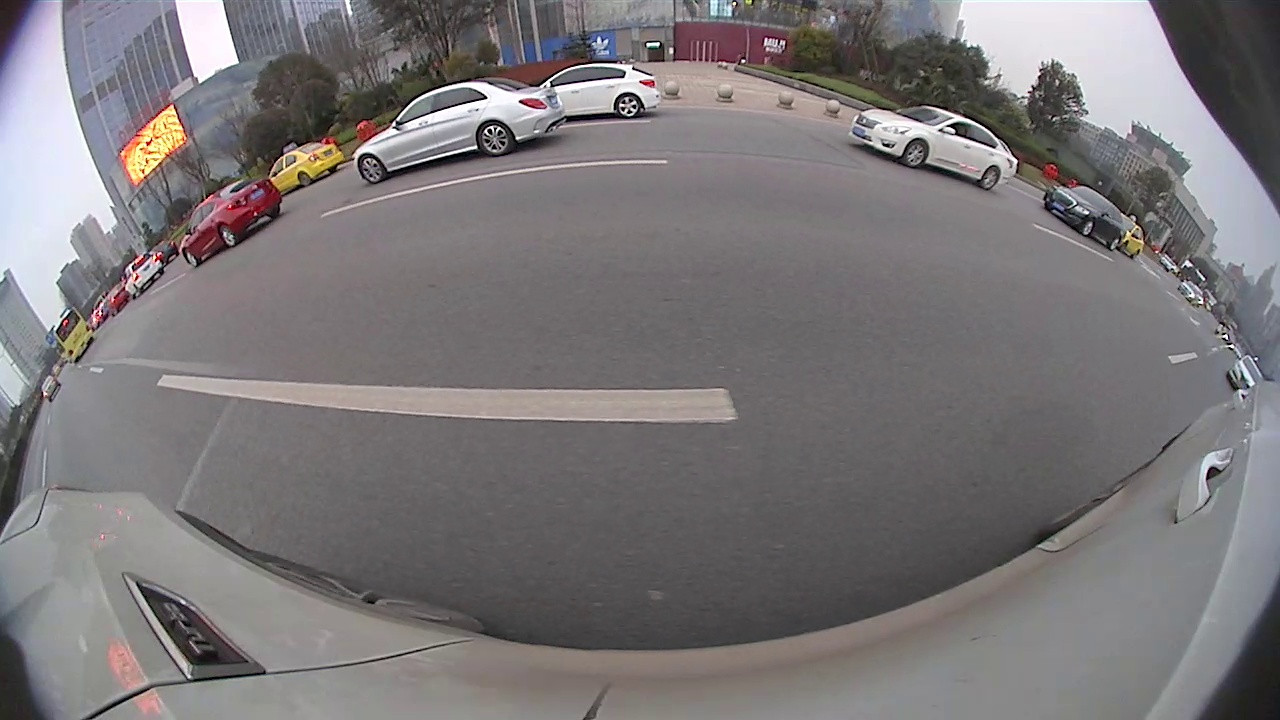bus: (54, 305, 98, 360)
car: (351, 75, 566, 186), (848, 104, 1016, 194), (178, 176, 286, 270), (531, 61, 662, 120), (1040, 182, 1124, 255), (266, 140, 344, 198), (1119, 214, 1144, 260)
front: (354, 152, 389, 186), (901, 137, 929, 169), (183, 247, 204, 268), (1077, 218, 1095, 238)
rear: (474, 119, 513, 162), (612, 92, 643, 120), (976, 164, 1001, 192), (217, 225, 240, 250), (296, 172, 314, 190), (1105, 236, 1121, 252), (266, 207, 282, 221), (326, 163, 337, 176)
